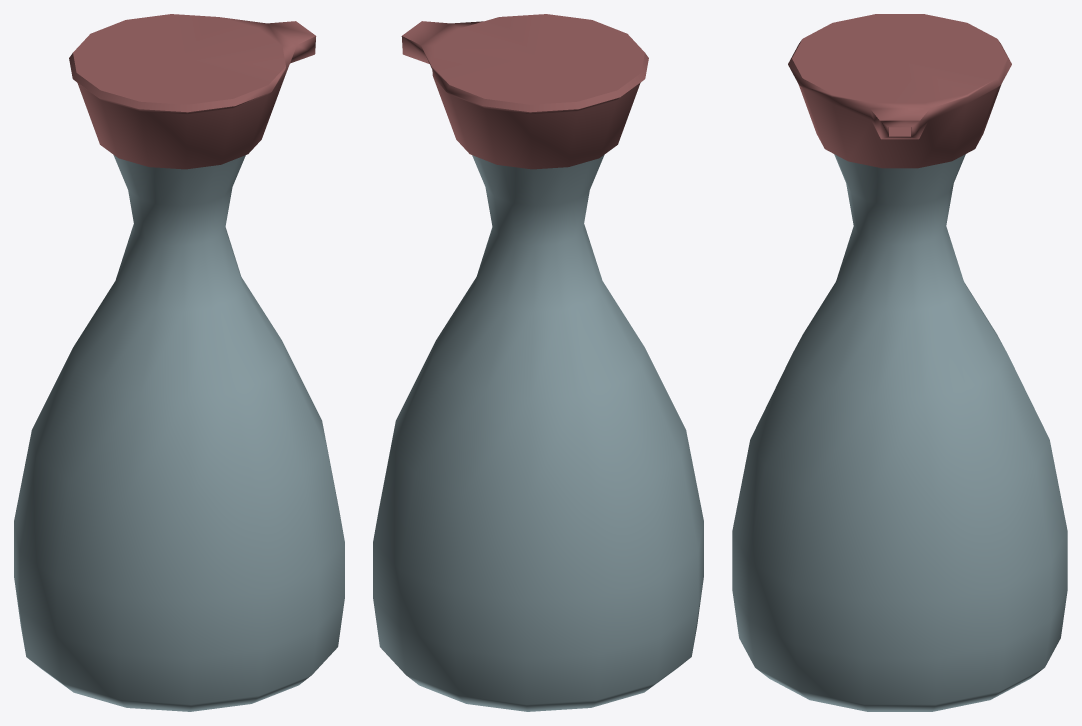
Rendered from B2-3_Soysauce.fbx.
The picture shows the model from 3 angles, left to right: view 1: azimuth 30°, elevation 25°; view 2: azimuth 150°, elevation 25°; view 3: azimuth 270°, elevation 25°; orthographic projection.
Visible parts, largest first — view 1: Soysauce; view 2: Soysauce; view 3: Soysauce.
Boxes of the visible parts, x1,y1,x2,y2 form: Soysauce: [14, 14, 344, 711]; Soysauce: [373, 14, 703, 711]; Soysauce: [732, 14, 1067, 711].
Bounding box in the file's own units: 2.03 × 4.07 × 2.09.
